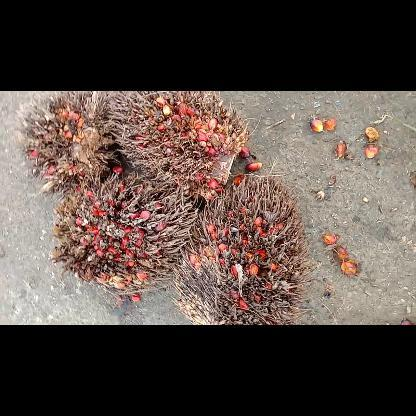Terlalu masak: (169, 170, 318, 324), (49, 170, 201, 304), (108, 90, 254, 206), (19, 91, 127, 197)
